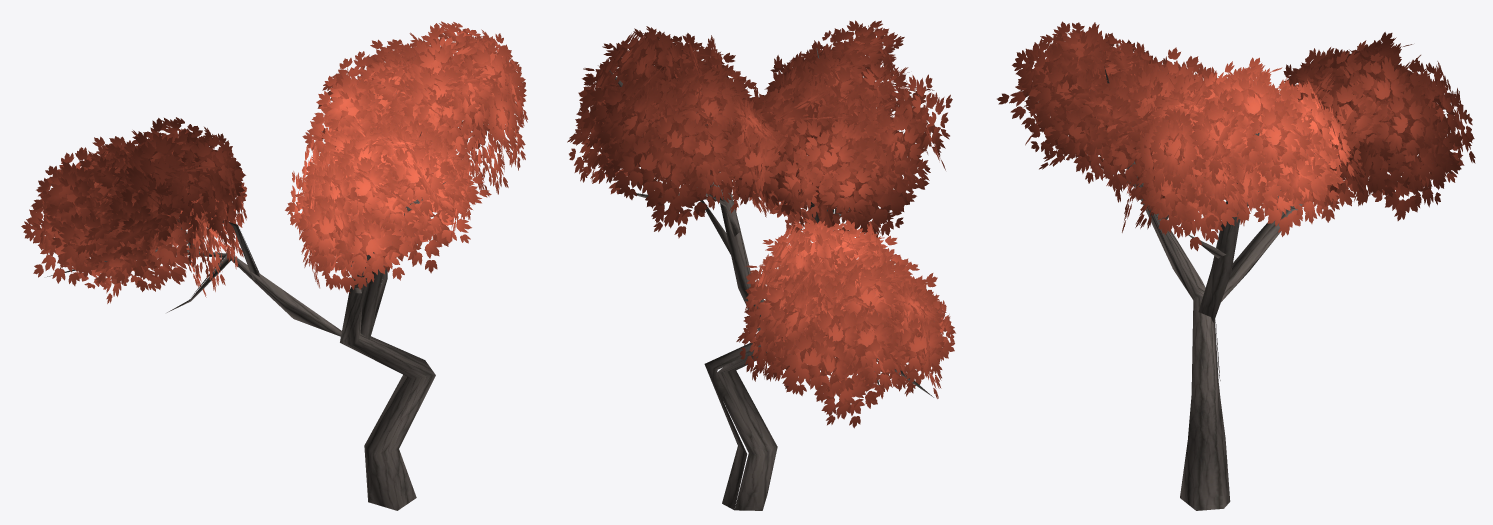
File: mapletree_2.glb
The picture shows the model from 3 angles, left to right: view 1: azimuth 30°, elevation 25°; view 2: azimuth 150°, elevation 25°; view 3: azimuth 270°, elevation 25°; orthographic projection. The views are drawn at different scales.
Visible parts, largest first — view 1: MapleTree_2; view 2: MapleTree_2; view 3: MapleTree_2.
Part boxes in pixels (x1=…): MapleTree_2: x1=21, y1=21, x2=527, y2=510; MapleTree_2: x1=567, y1=20, x2=955, y2=510; MapleTree_2: x1=997, y1=21, x2=1475, y2=510.
Size of the model in its own units: 6.7 by 6.72 by 6.24.
Materials: 2 (2 with a texture image).
